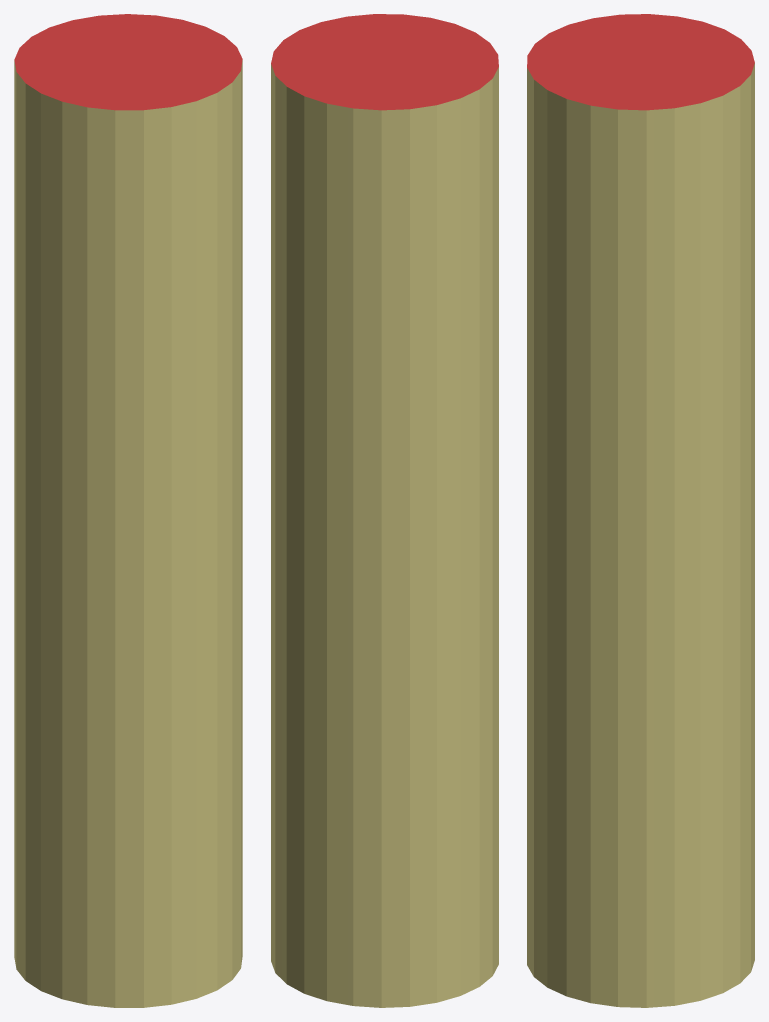
3 views of the same model, side by side, from view 1: azimuth 30°, elevation 25°; view 2: azimuth 150°, elevation 25°; view 3: azimuth 270°, elevation 25° (orthographic).
Size of the model in its own units: 3.45 by 3.45 by 14.99.
